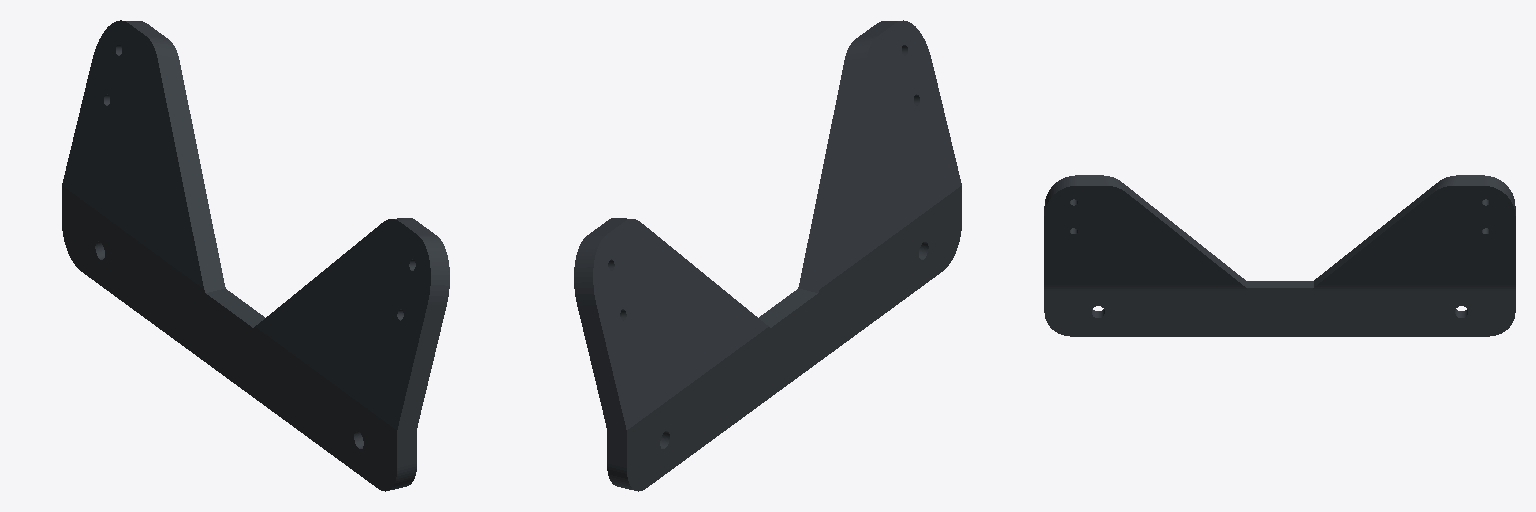
URDF robot description (autonomous_zed_payload):
<?xml version="1.0" ?>
<!-- Generated using onshape-to-robot -->
<!-- Onshape https://tronsoc.onshape.com/documents/a04fc62c100c90ae88802972/w/c0a63c4f09140e5b63a1ee94/e/659a7a2b75f230d3e19a7407 -->
<robot name="autonomous_zed_payload">
  <!-- Link autonomous_zed_mount -->
  <link name="autonomous_zed_mount">
    <inertial>
      <origin xyz="0.00610768 9.5471e-08 0.0173842" rpy="0 0 0"/>
      <mass value="0.05"/>
      <inertia ixx="0.000182159" ixy="-7.8e-11" ixz="-3.26034e-06" iyy="1.74442e-05" iyz="-2.77e-10" izz="0.000166422"/>
    </inertial>
    <!-- Part autonomous_zed_mount -->
    <visual>
      <origin xyz="0.015 0.000556129 -0.156852" rpy="-1.5708 -0 1.5708"/>
      <geometry>
        <mesh filename="package://kanga_description/assets_autonomous_zed_payload/autonomous_zed_mount.stl"/>
      </geometry>
      <material name="autonomous_zed_mount_material">
        <color rgba="0.262745 0.282353 0.301961 1"/>
      </material>
    </visual>
    <collision>
      <origin xyz="0.015 0.000556129 -0.156852" rpy="-1.5708 -0 1.5708"/>
      <geometry>
        <mesh filename="package://kanga_description/assets_autonomous_zed_payload/autonomous_zed_mount.stl"/>
      </geometry>
    </collision>
  </link>
  <!-- Frame zed_camera_mount (dummy link + fixed joint) -->
  <link name="zed_camera_mount">
    <origin xyz="0 0 0" rpy="0 -0 0"/>
    <inertial>
      <origin xyz="0 0 0" rpy="0 0 0"/>
      <mass value="1e-9"/>
      <inertia ixx="0" ixy="0" ixz="0" iyy="0" iyz="0" izz="0"/>
    </inertial>
  </link>
  <joint name="zed_camera_mount_frame" type="fixed">
    <origin xyz="0.0320595 -0 0.0225717" rpy="0 0.261799 0"/>
    <parent link="autonomous_zed_mount"/>
    <child link="zed_camera_mount"/>
    <axis xyz="0 0 0"/>
  </joint>
</robot>

--- Facts derived from the render (not from the file) ---
3 views of the same robot in one strip: view 1: azimuth 30°, elevation 25°; view 2: azimuth 150°, elevation 25°; view 3: azimuth 270°, elevation 25° (orthographic).
Model autonomous_zed_payload with 2 links and 1 joints (1 fixed), rooted at autonomous_zed_mount, posed every joint at zero.
Visible links, largest first — view 1: autonomous_zed_mount; view 2: autonomous_zed_mount; view 3: autonomous_zed_mount.
Link boxes in pixels (x1,y1,x2,y2): autonomous_zed_mount: [62, 20, 449, 491]; autonomous_zed_mount: [574, 20, 961, 491]; autonomous_zed_mount: [1044, 175, 1515, 336].
Bounding box of the posed robot: 0.0188 × 0.1753 × 0.0694 m (x, y, z).
Meshes: 1 distinct files referenced, 1 mesh visuals loaded (1 binary STL).
